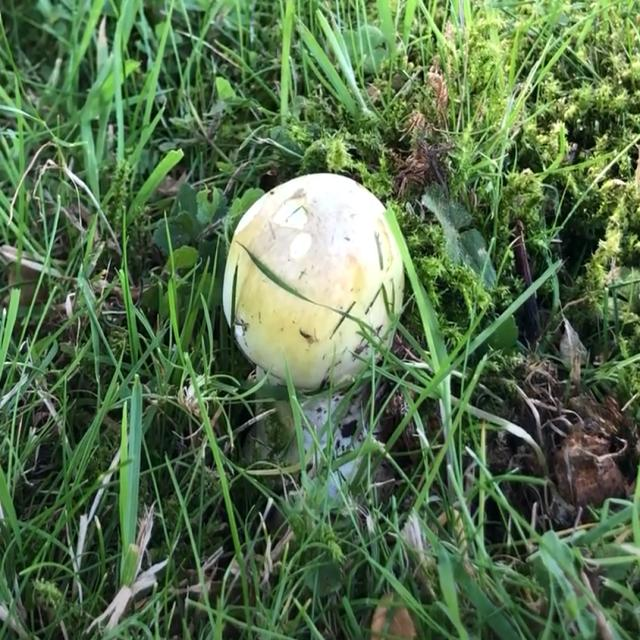death-cap: (222, 174, 415, 491)
